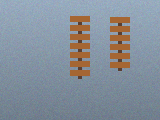insulator: (68, 14, 92, 80), (108, 15, 132, 72)
